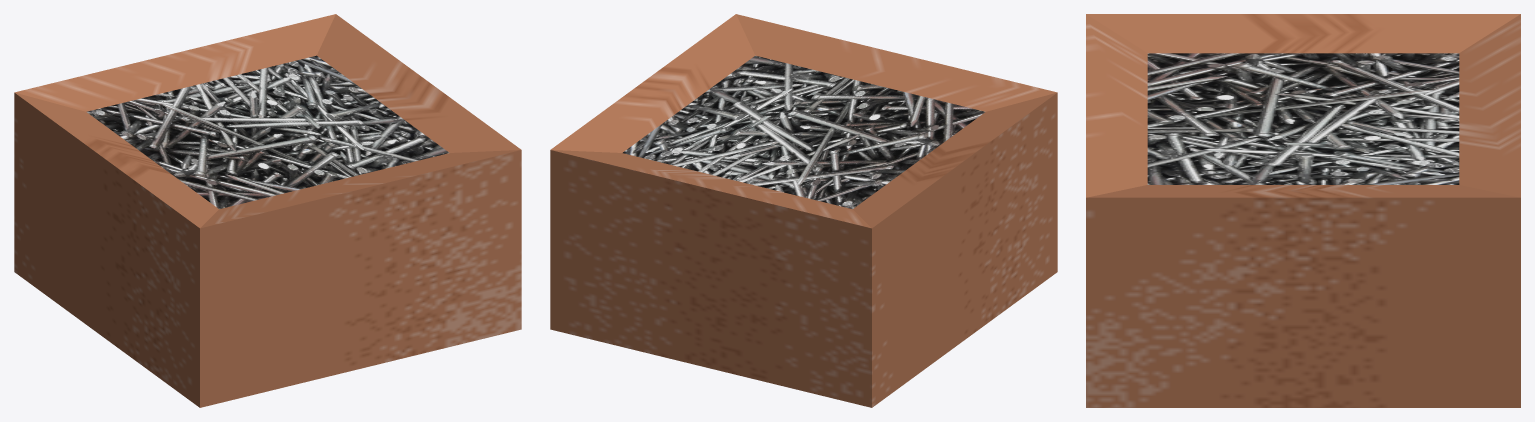
Rendered from Nail.fbx.
3 renders of one model, left to right at view 1: azimuth 30°, elevation 25°; view 2: azimuth 150°, elevation 25°; view 3: azimuth 270°, elevation 25°, orthographic. The views are drawn at different scales.
Visible parts, largest first — view 1: Nails; view 2: Nails; view 3: Nails.
Part boxes in pixels (x1,y1,x2,y2): Nails: (14,14,521,407); Nails: (550,14,1057,407); Nails: (1086,14,1520,407).
Size of the model in its own units: 600 by 320 by 600.
